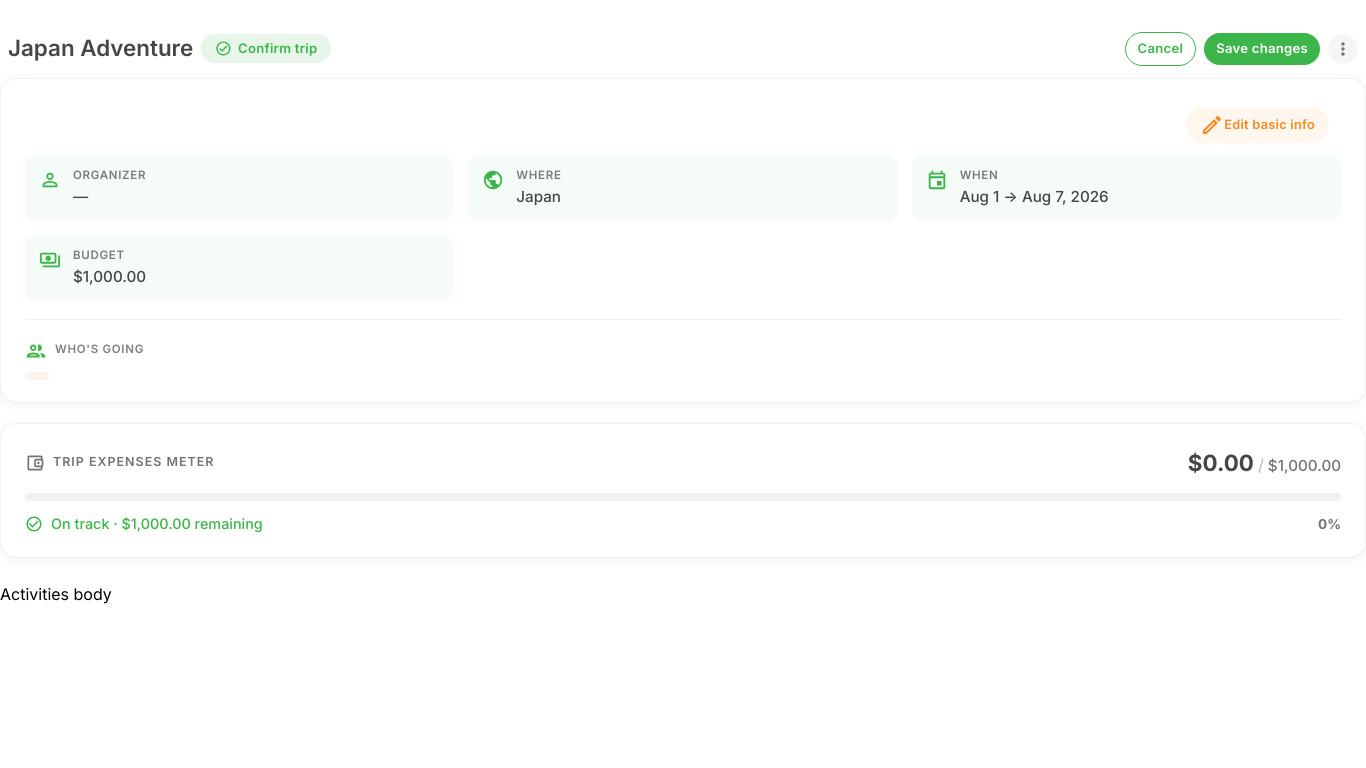
Scenario: StepperComp — edit mode › errors when cancelling a trip cannot resolve the trip type
The image size is (1366, 768).
Step 1. Click the button named "more actions" → (1343, 49), box [1328,34,1358,64]
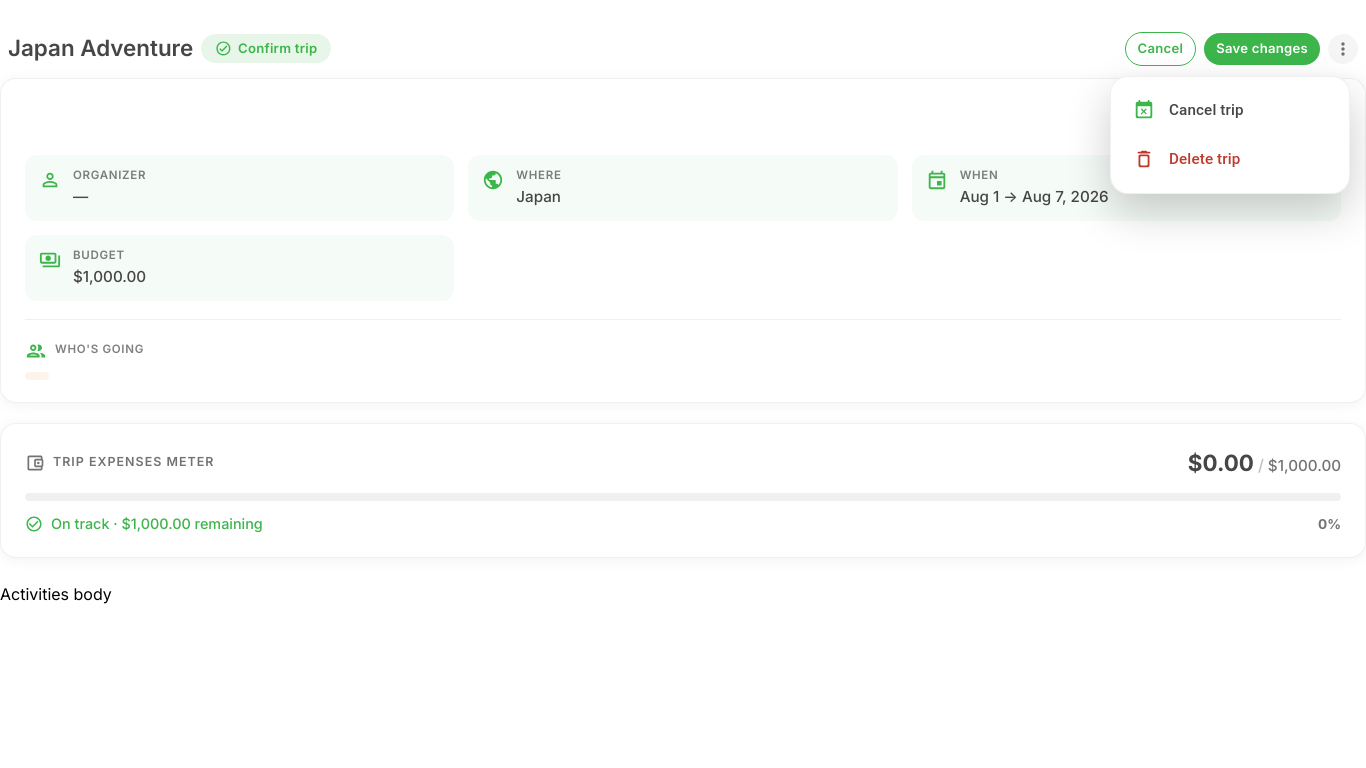
Step 2. Click the menu item "Cancel trip" → (1188, 110), box [1133,99,1244,121]
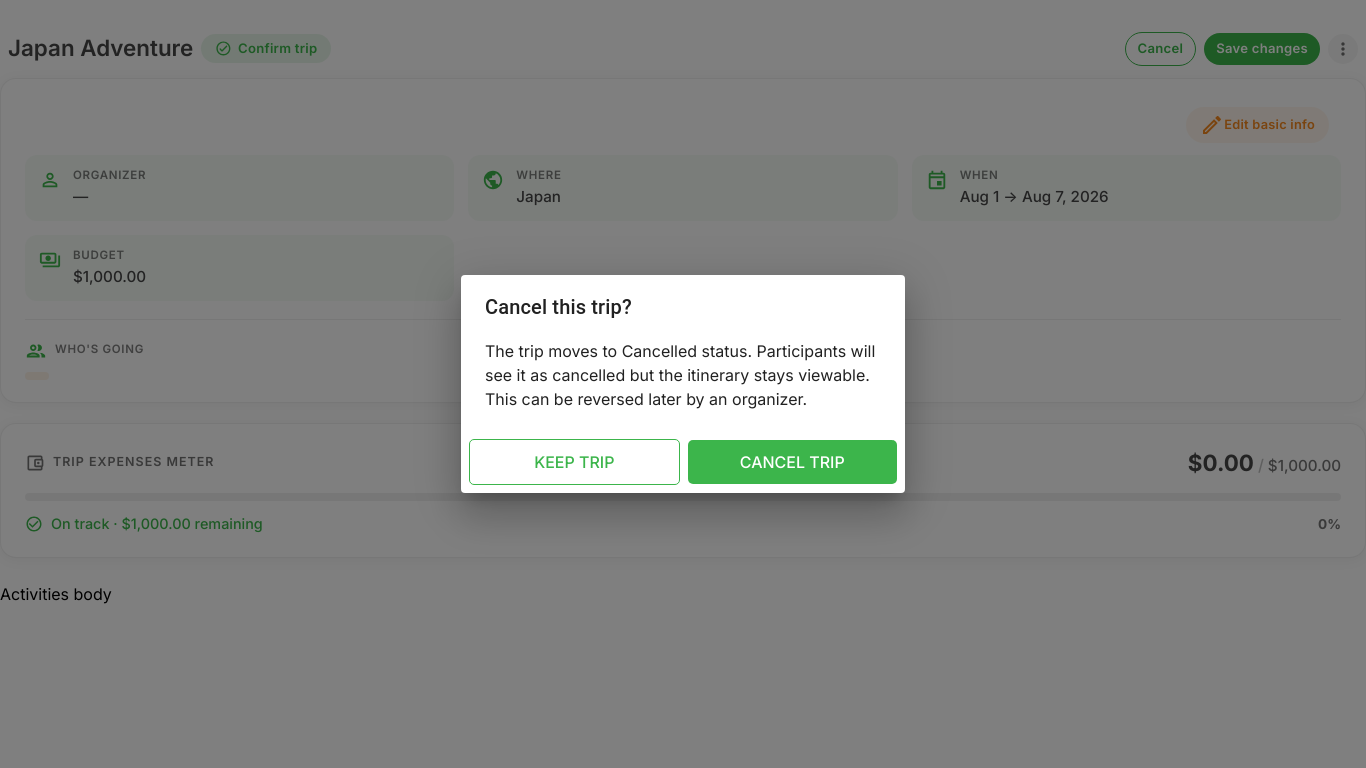
Step 3. Click the button "Cancel trip" → (792, 462), box [688,440,897,484]
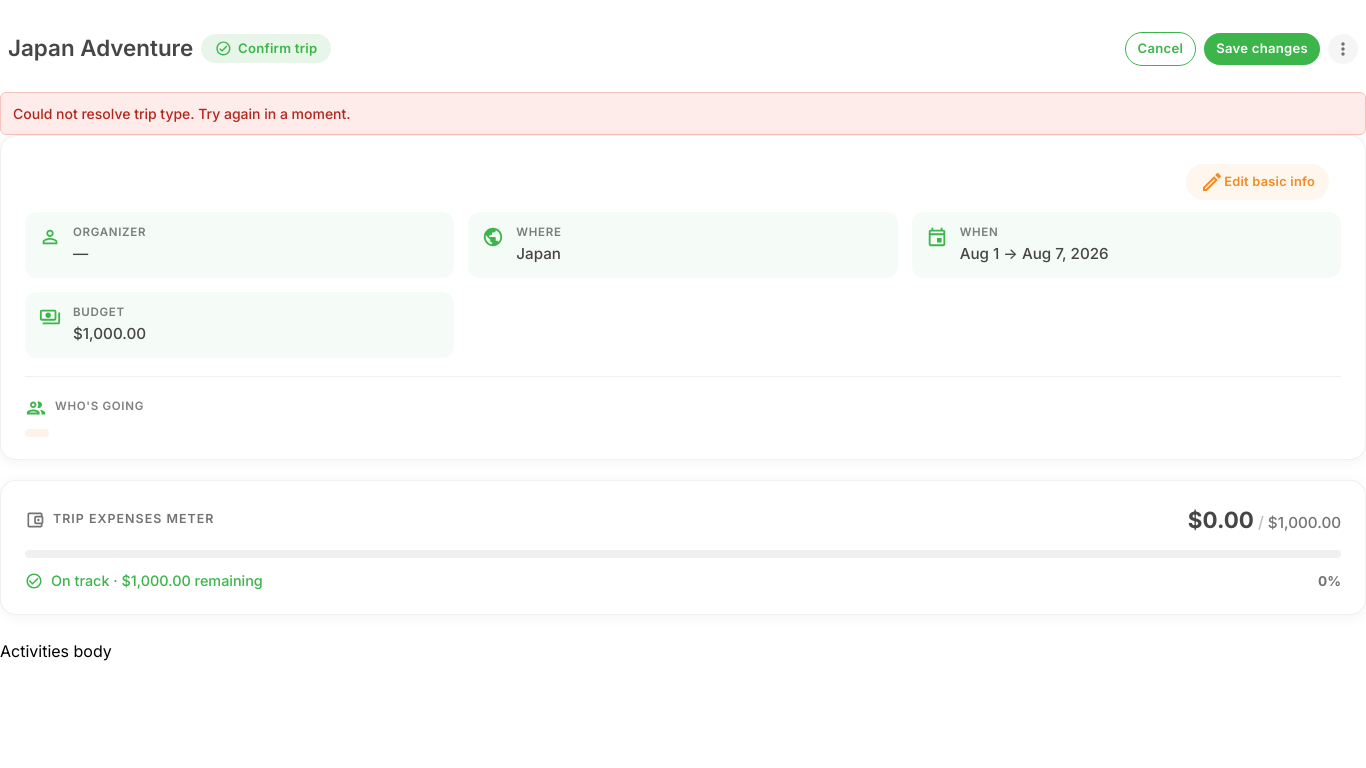
Result: the text "Could not resolve trip type. Try again in a moment." is shown at [0,92,1365,135]
